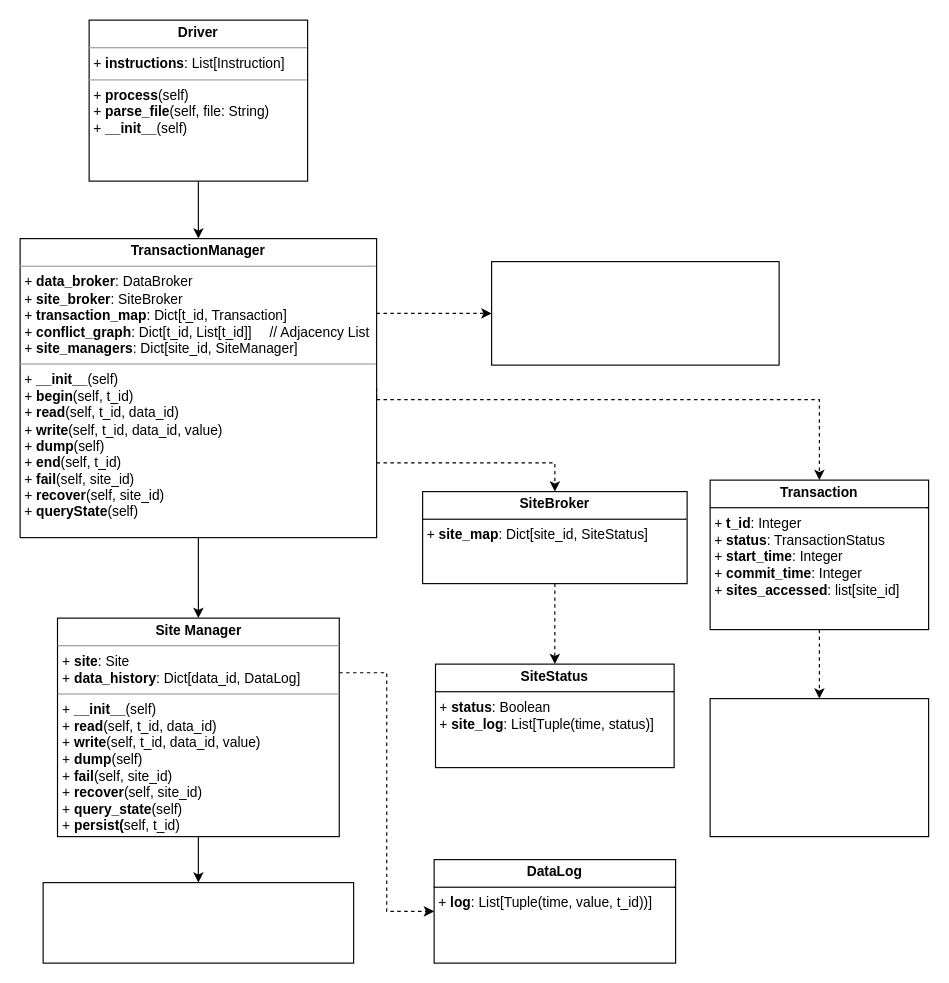
The diagram is 949 pixels wide and 983 high, and some of its shapes have lost their labels. The shapes that lost their labels are listed below. From the top down, each one's centre as x and y in pixels, then its label:
point (634, 312): DataBroker + data_map : Dict[data_id, List[site_id]]
point (819, 767): TransactionStatus [Enum] + READY + RUNNING + WAITING + ABORTED + COMMITTED
point (198, 922): Site + side_id : Integer + site_data : Dict[data_id, last_committed_value]
